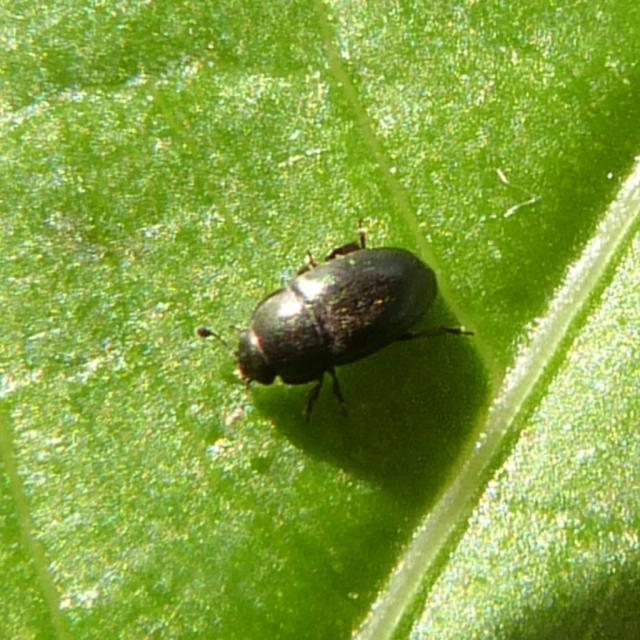pollen_beetle: (185, 216, 486, 429)
